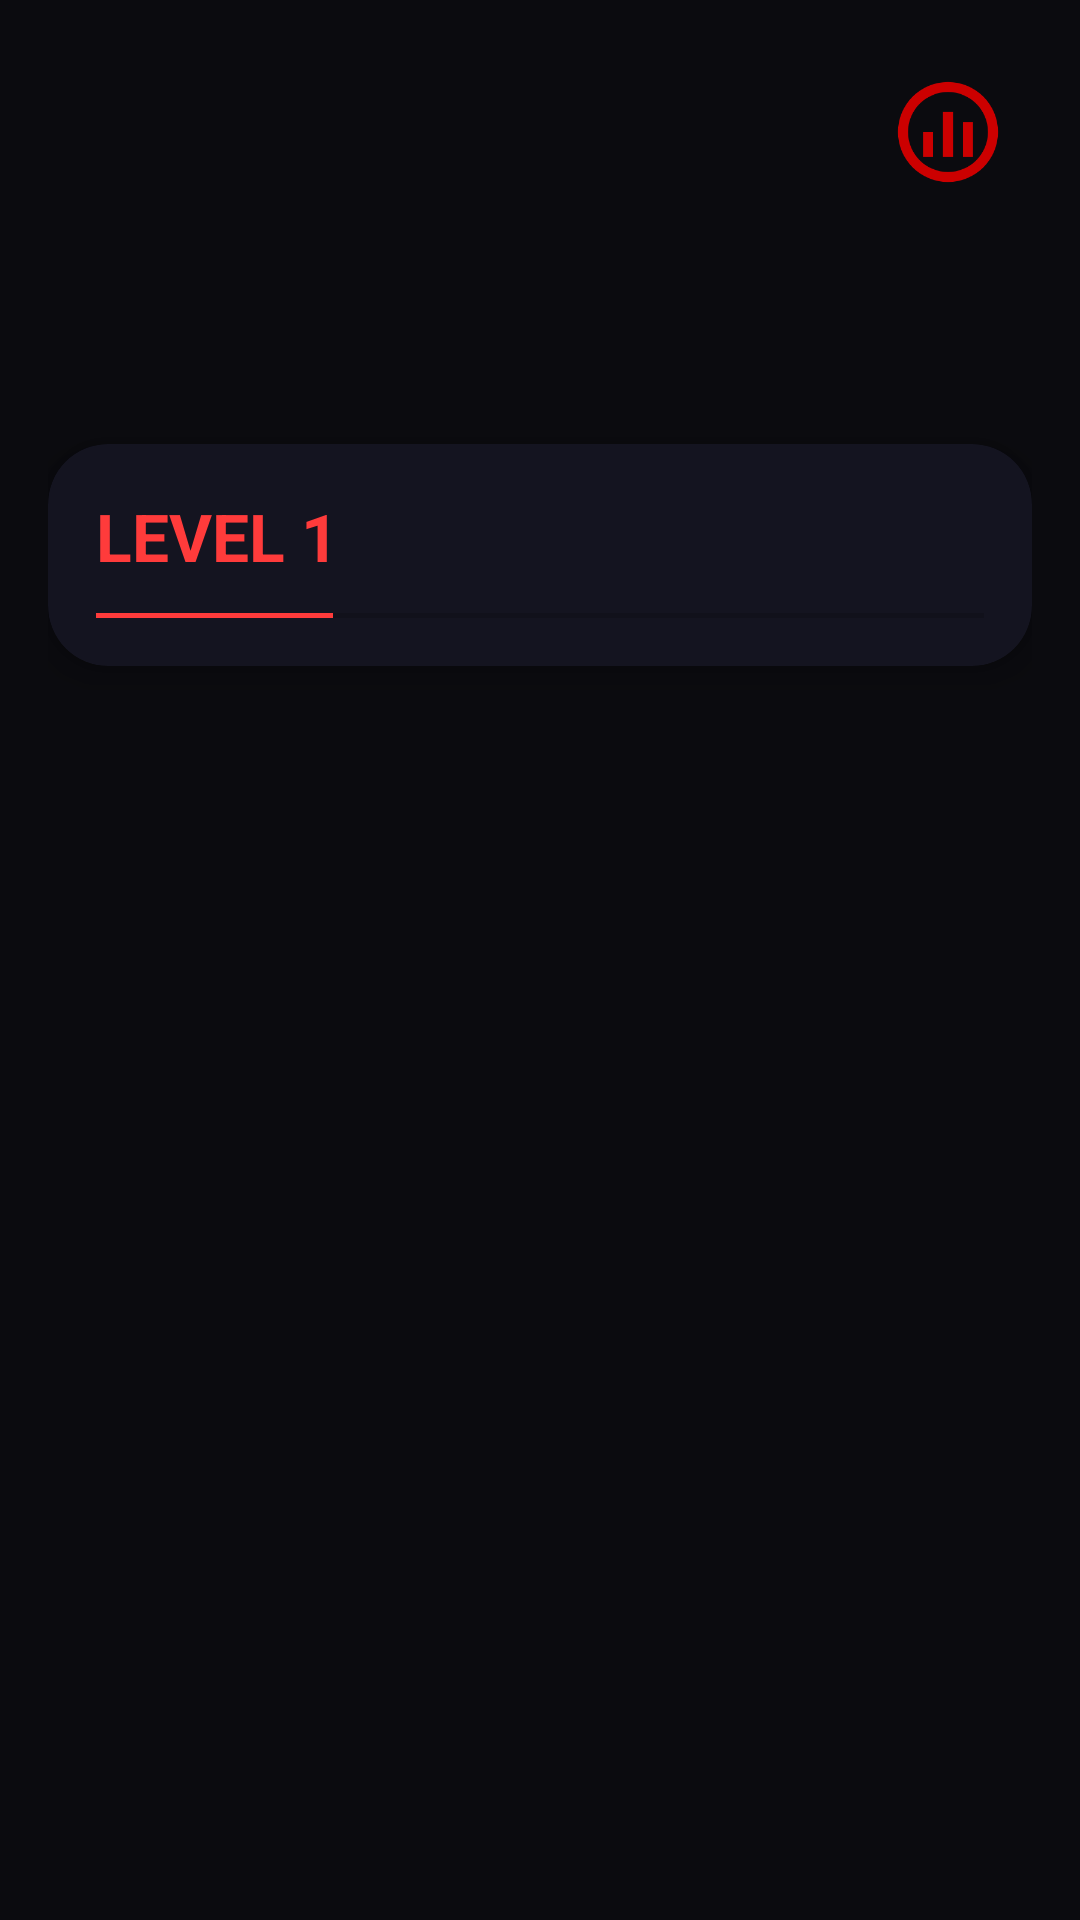

Icons on this 1080*1920 Android screen, each with the point to tap as [x,y]:
Statistics: [948,132]
